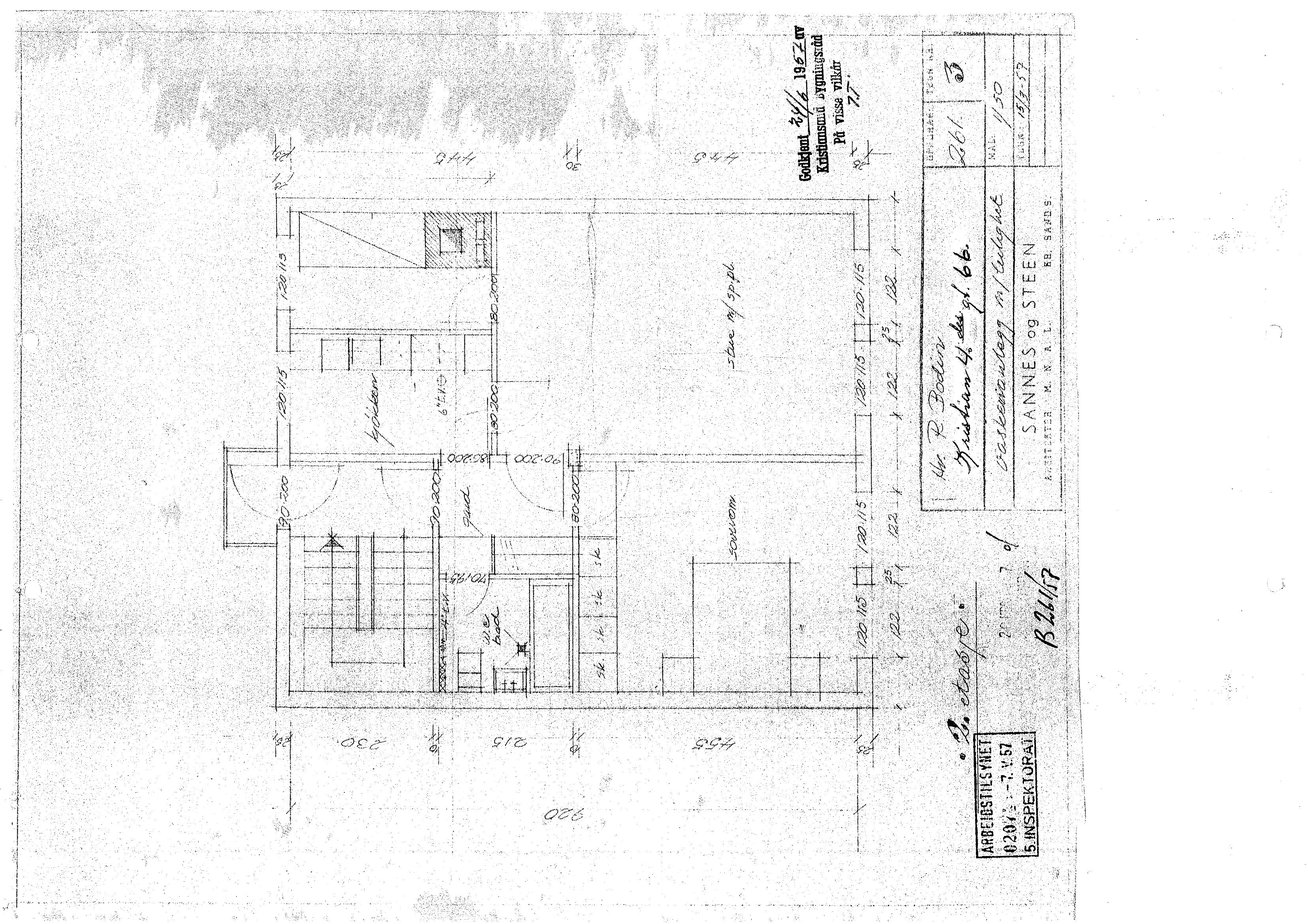plantegning: (219, 189, 893, 753)
